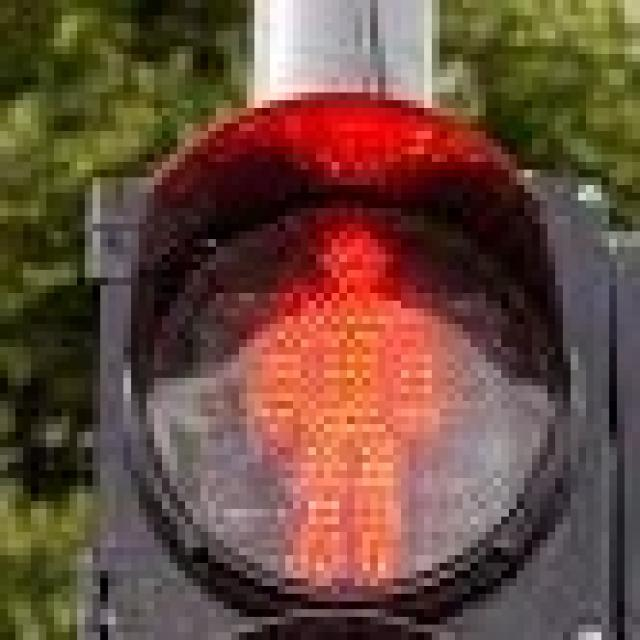red_light: (208, 193, 478, 586)
